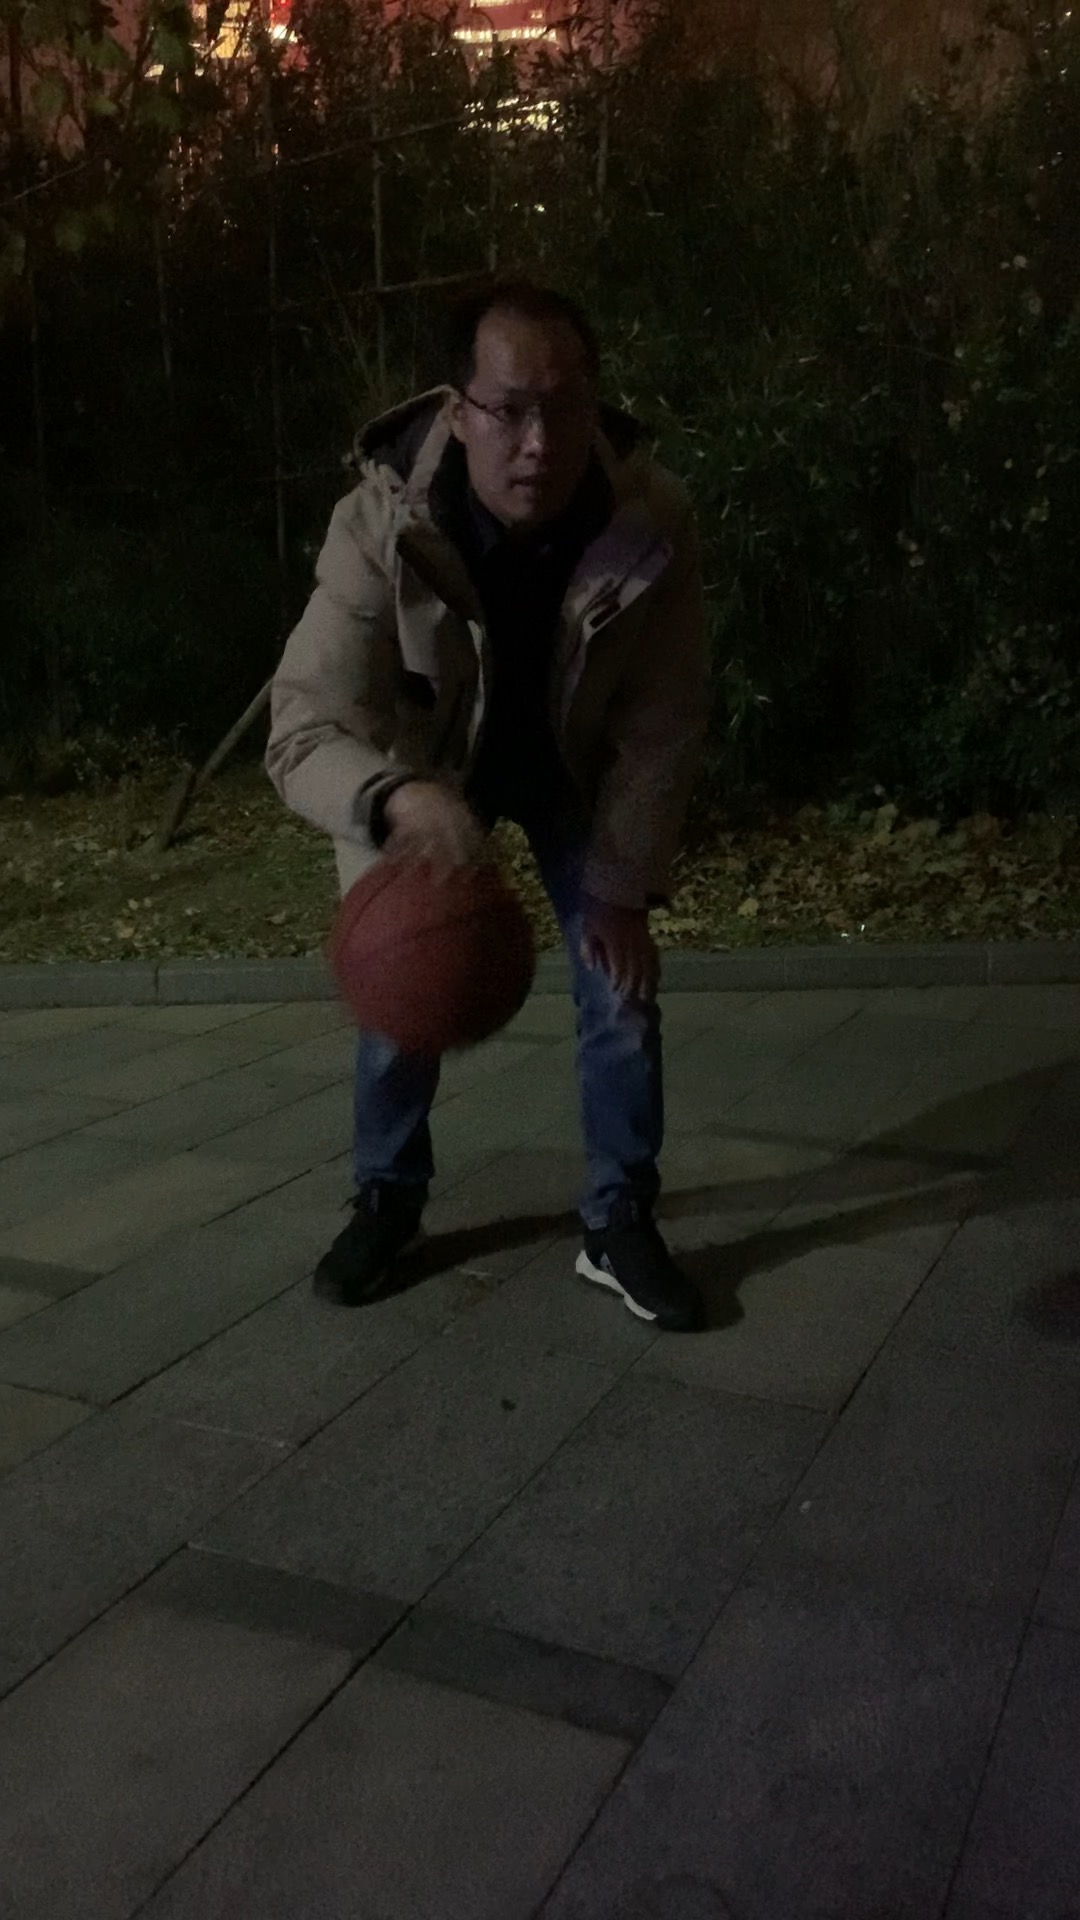ball: (338, 841, 531, 1054)
